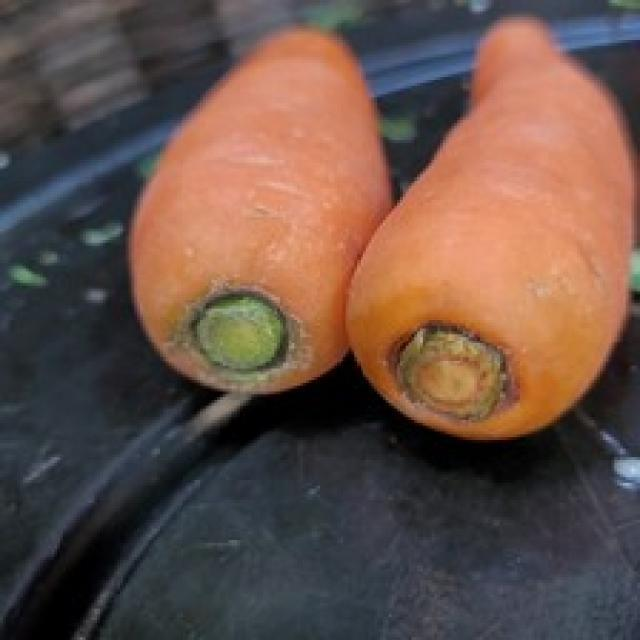carrot: (346, 7, 637, 430), (122, 23, 392, 396)
